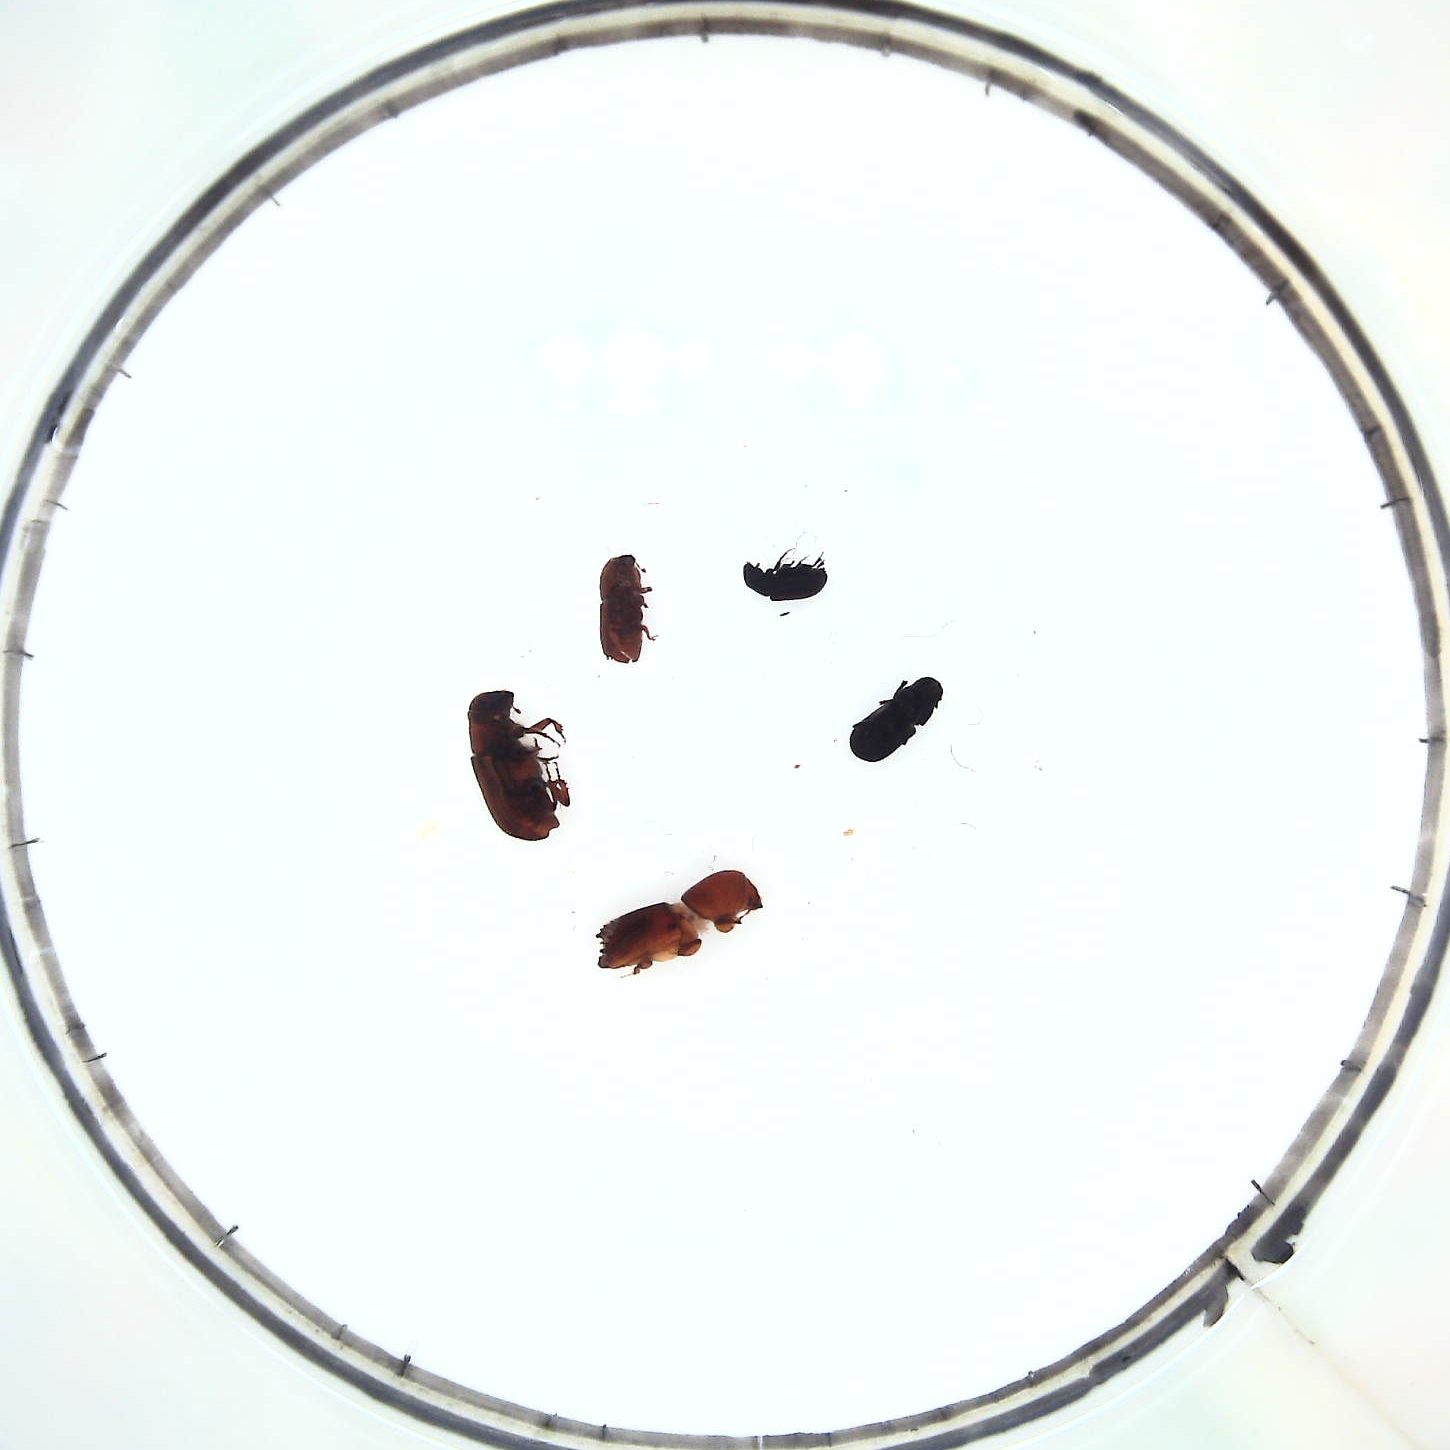Boerner: (598, 868, 764, 983)
Leconte: (470, 692, 572, 845)
Linnaeus: (598, 554, 659, 667)
armandi: (845, 675, 945, 764)
coleoptera: (745, 551, 829, 604)
